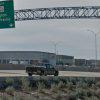Car: (24, 57, 61, 85)
